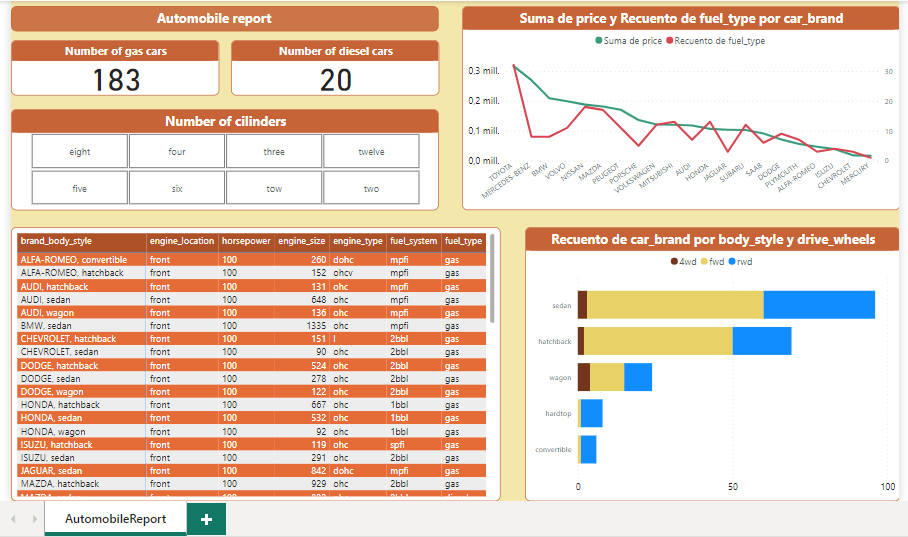

This screenshot's page, from the dashboard's own definition file:
{"tool":"powerbi","page":{"name":"AutomobileReport","canvas":[1280,720],"ordinal":0},"visuals":[{"type":"card","title":"Number of diesel cars","fields":{"Values":["Sum(CantidadAutosADiesel.diesel_cars)"]},"box":[316.1,55.6,300,80.5],"z":0},{"type":"card","title":"Number of gas cars","fields":{"Values":["Sum(CantidadAutosAGas.gas_cars)"]},"box":[0,55.6,300,80.5],"z":1000},{"type":"lineChart","fields":{"Category":["Especificaciones_Principales.car_brand"],"Y":["Sum(Especificaciones_Principales.price)"],"Y2":["CountNonNull(Especificaciones_Principales.fuel_type)"]},"box":[649.8,7.3,630.7,294.1],"z":2000},{"type":"barChart","fields":{"Category":["Especificaciones_Principales.body_style"],"Y":["CountNonNull(Especificaciones_Principales.car_brand)"],"Series":["Especificaciones_Principales.drive_wheels"]},"box":[740.5,324.9,540,395.1],"z":3000},{"type":"pivotTable","fields":{"Values":["Min(EspecificacionesMotor.engine_location)","Min(Especificaciones_Principales.horsepower)","Sum(EspecificacionesMotor.engine_size)","Min(EspecificacionesMotor.engine_type)","Min(EspecificacionesMotor.fuel_system)","Min(EspecificacionesMotor.fuel_type)"],"Rows":["EspecificacionesMotor.brand_body_style"]},"box":[0,324.9,705.4,395.1],"z":4000},{"type":"slicer","title":"Number of cilinders","fields":{"Values":["Especificaciones_Principales.num_of_cylinders"]},"box":[0,155.1,616.1,146.3],"z":5000},{"type":"shape","box":[0,7.3,616.1,36.6],"z":6000},{"type":"textbox","box":[105.4,7.3,374.6,36.6],"z":7000}]}

Visuals, with their boxes on the page's 1280x720 design canvas (x1, y1, x2, y2). These are canvas units, not pixel positions in the 908x537 screenshot, which may show the page scaled, cropped or inside an application window:
"Number of diesel cars" card: box=[316, 56, 616, 136]
"Number of gas cars" card: box=[0, 56, 300, 136]
lineChart - Especificaciones_Principales.car_brand x Sum(Especificaciones_Principales.price): box=[650, 7, 1280, 301]
barChart - Especificaciones_Principales.body_style x CountNonNull(Especificaciones_Principales.car_brand): box=[740, 325, 1280, 720]
pivotTable - Min(EspecificacionesMotor.engine_location) x Min(Especificaciones_Principales.horsepower): box=[0, 325, 705, 720]
"Number of cilinders" slicer: box=[0, 155, 616, 301]
shape: box=[0, 7, 616, 44]
textbox: box=[105, 7, 480, 44]
